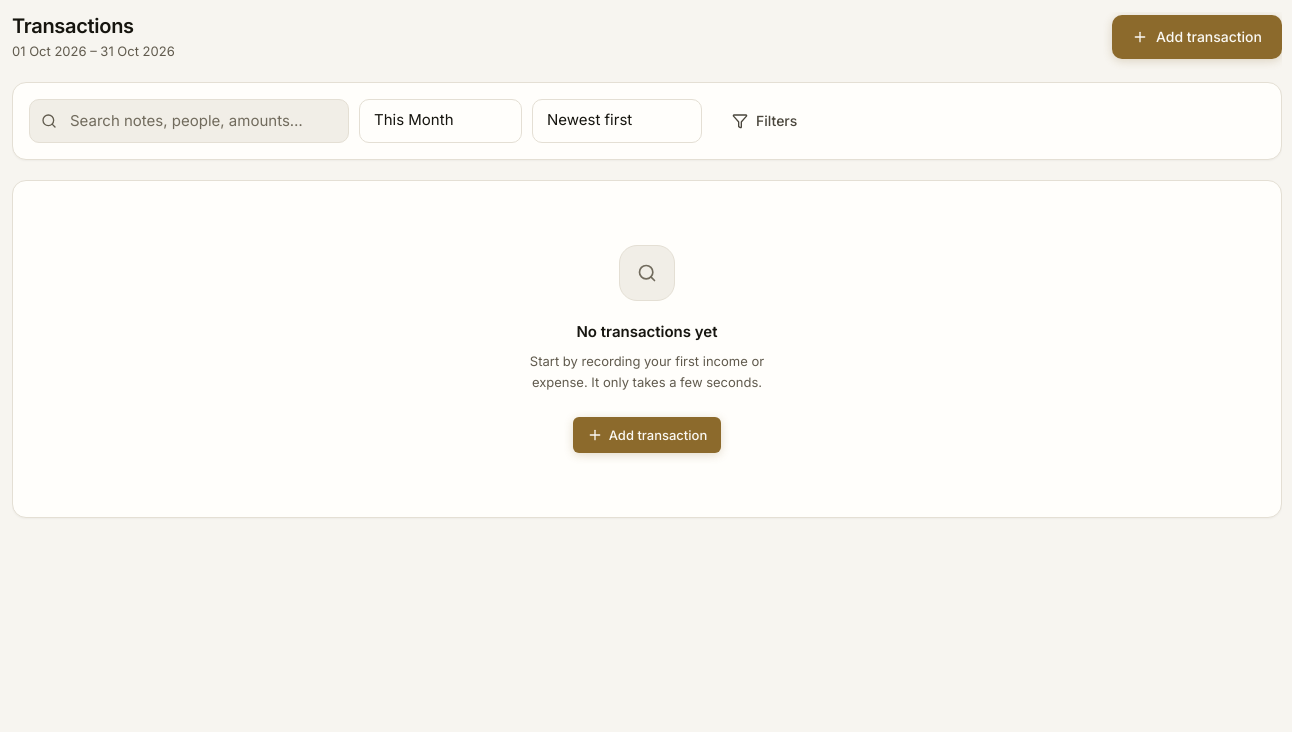
it: <TransactionsPage> advanced filters › treats one end of a custom range as "since" or "until", and flags a backwards range
Select "Custom dates…" in the dropdown named "Date range": x=440, y=120 [359,98,522,142]
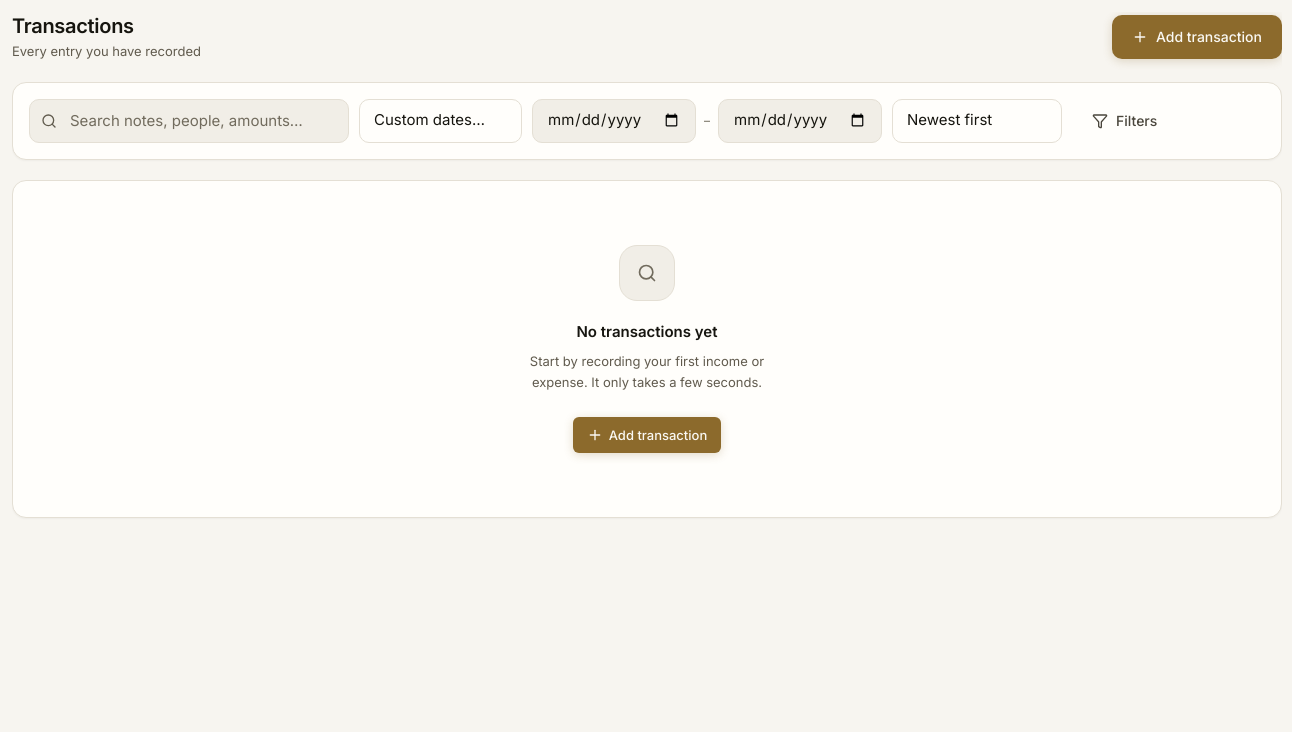
In the date field named "From date": x=614, y=120 [532,98,696,142], type "2026-09-10"
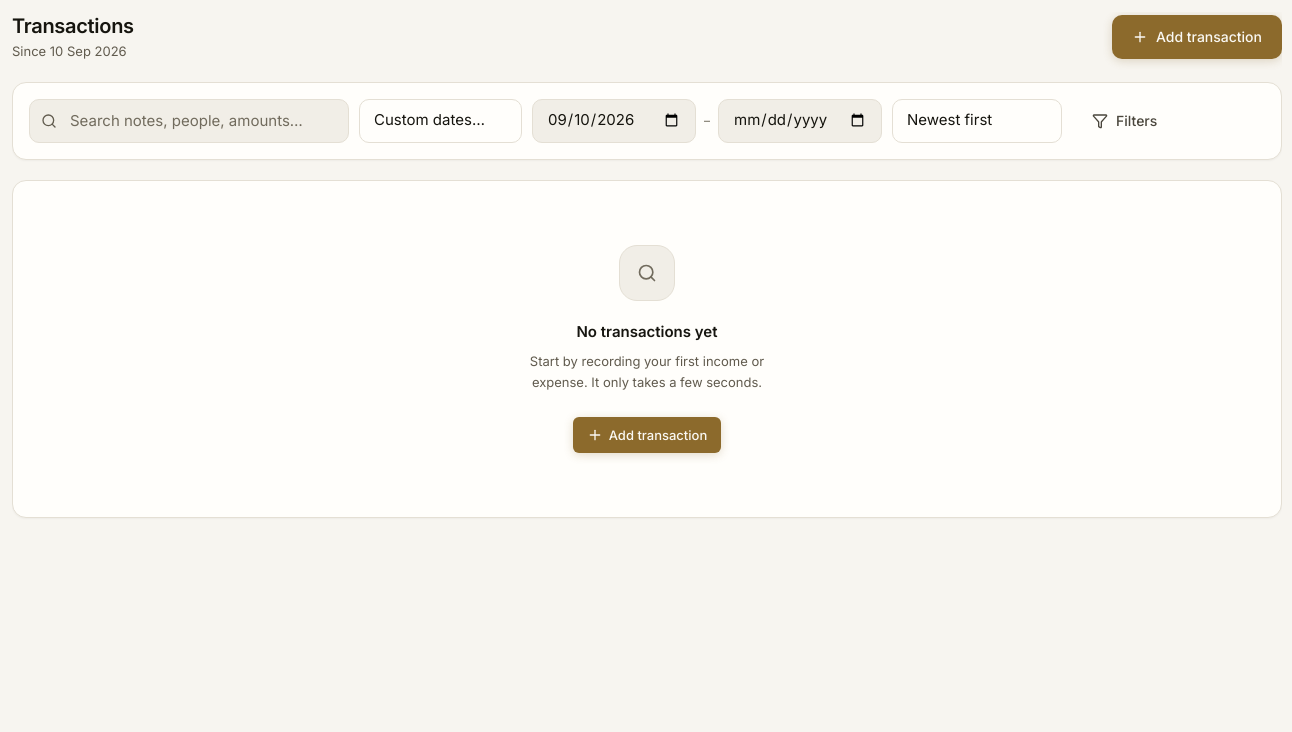
expect the text "Since 10 Sep 2026" is shown: met, box [12,42,134,62]
In the date field named "To date": x=800, y=120 [718,98,882,142], type "2026-09-01"
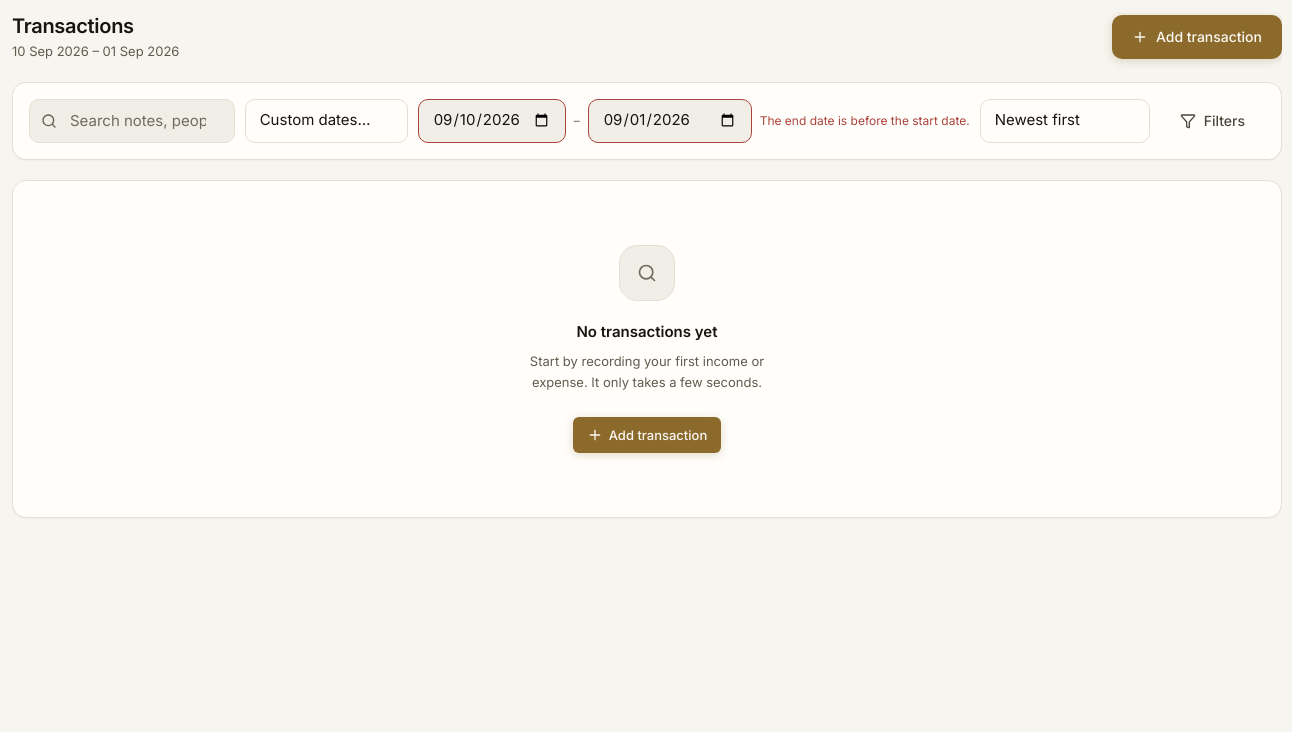
expect the message reads "The end date is before the start date.": met, box [760,112,970,128]
